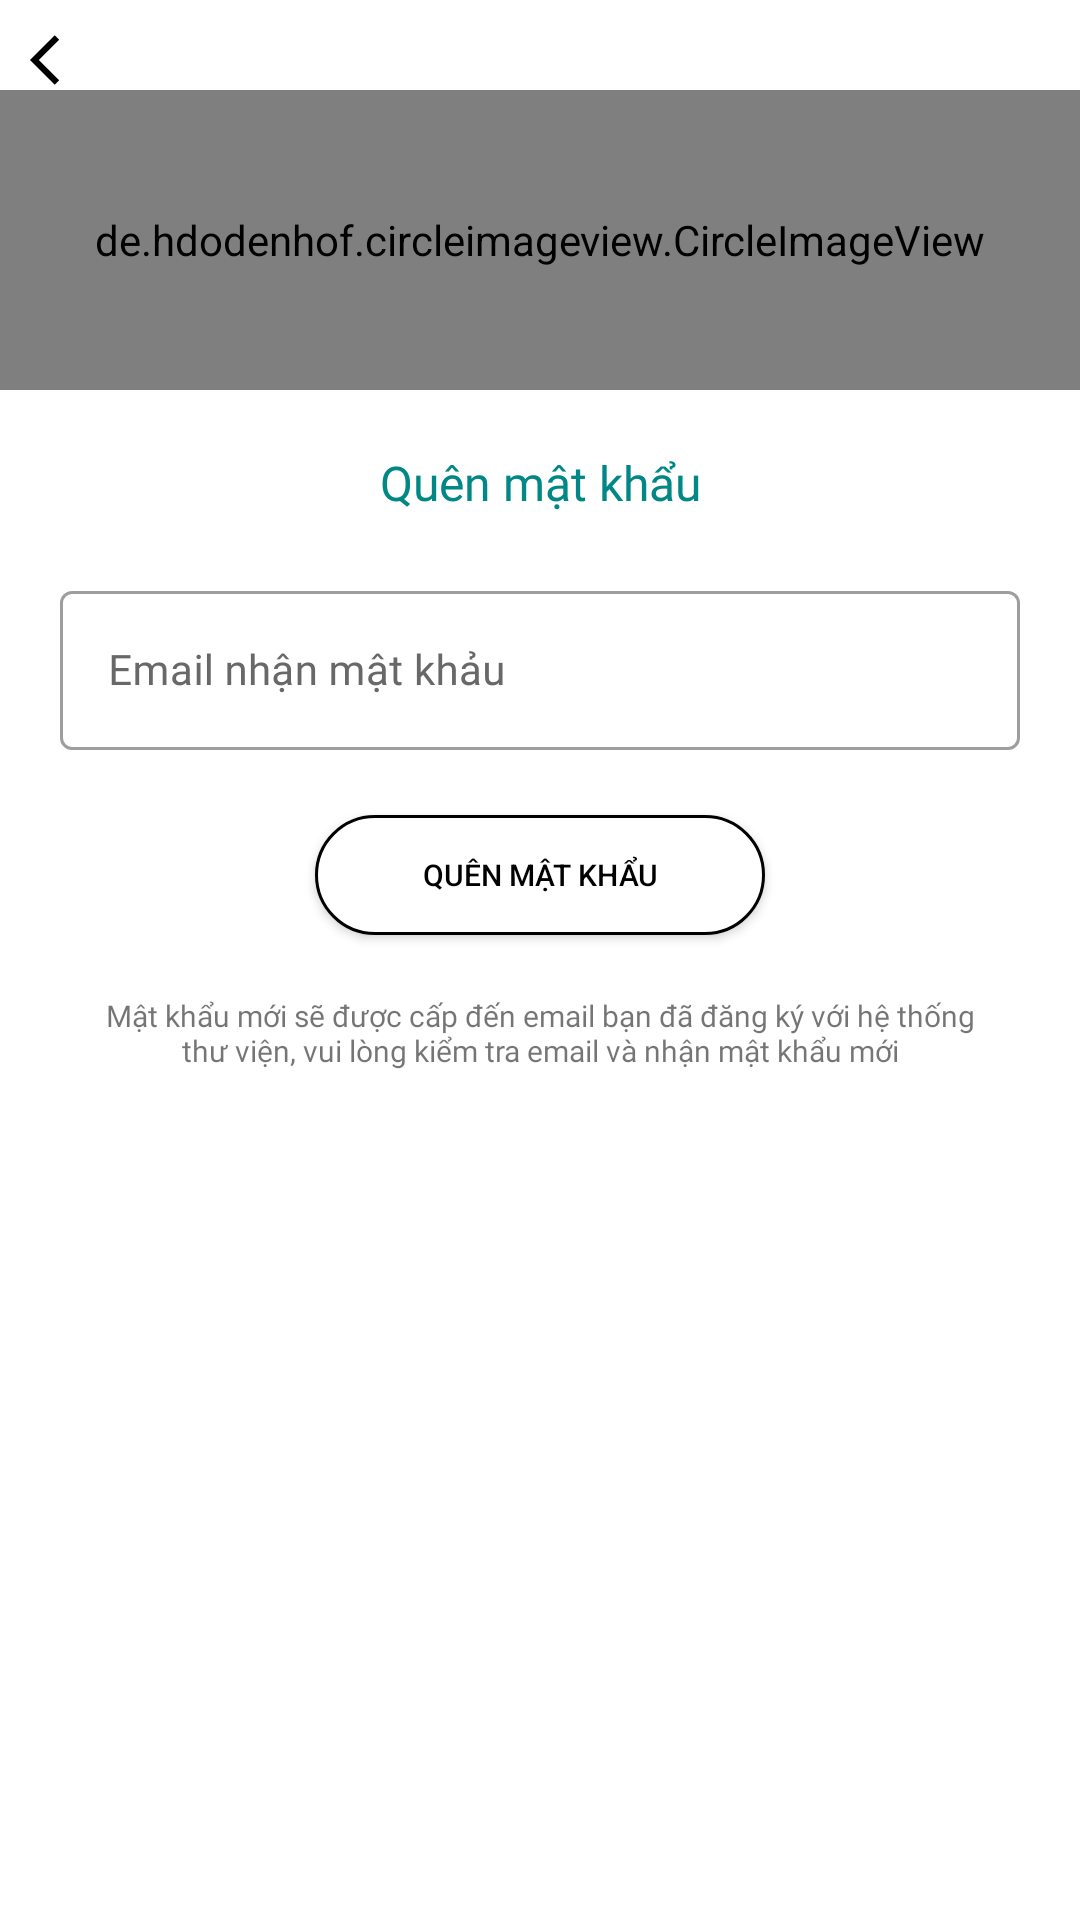

Locate icon controls on the screen. Image size 1080px x 1920px, boxes as (x1, y1, x2, y2).
arrow back: (30, 35, 59, 85)
